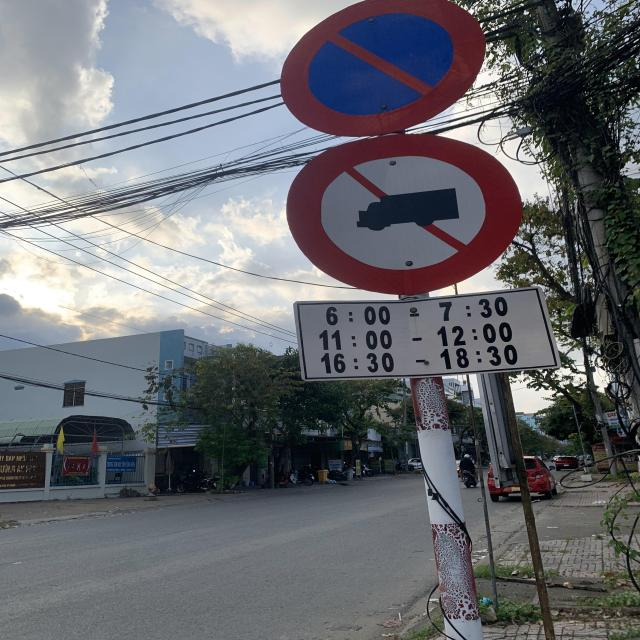Cam_Dau_Xe: (279, 0, 490, 139)
Cam_Xe_Tai: (286, 135, 528, 298)
